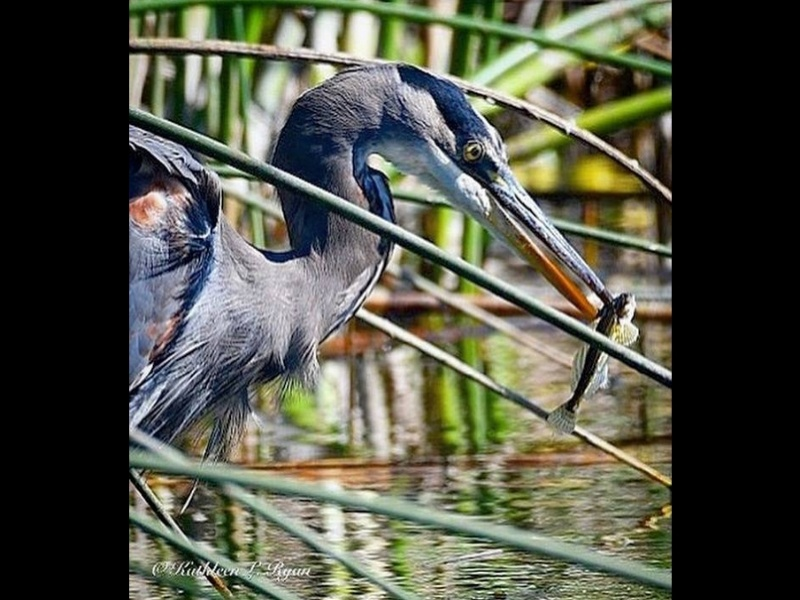heron: (130, 54, 609, 512)
